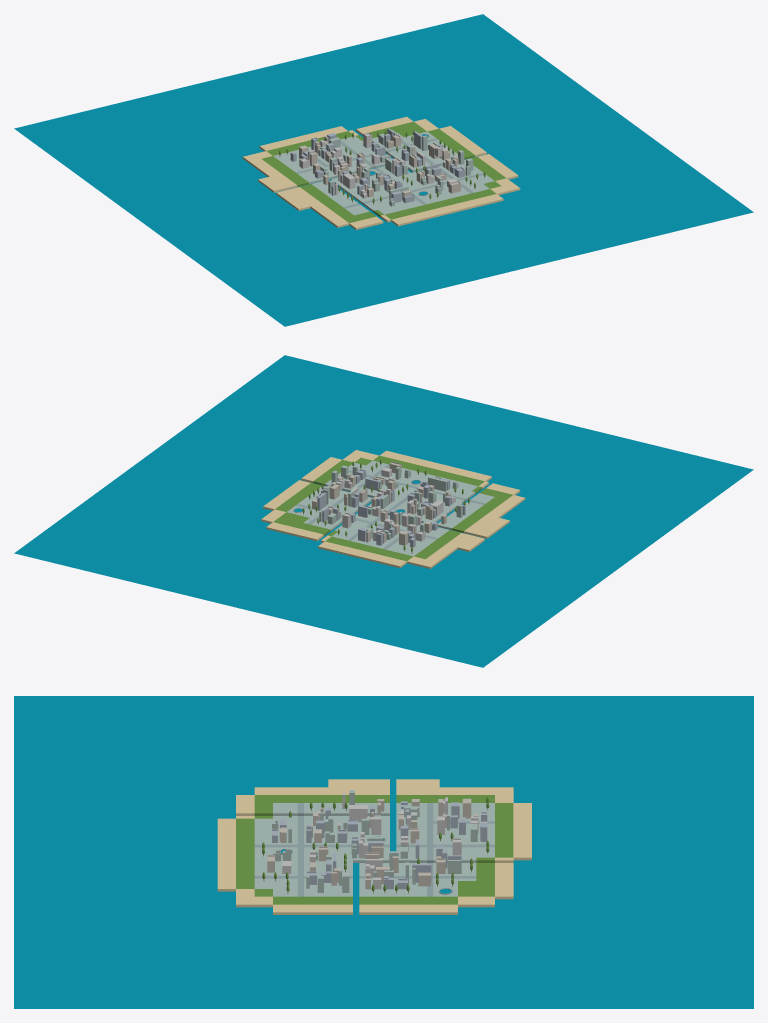
Rendered from diving_city_02.fbx.
3 renders of one model, top to bottom at view 1: azimuth 30°, elevation 25°; view 2: azimuth 150°, elevation 25°; view 3: azimuth 270°, elevation 25°, orthographic. The views are drawn at different scales.
Visible parts, largest first — view 1: obj_sea, obj_sand; view 2: obj_sea, obj_sand; view 3: obj_sea, obj_sand.
Boxes of the visible parts, x1=… form: obj_sea: x1=14, y1=14, x2=753, y2=326; obj_sand: x1=242, y1=116, x2=520, y2=229; obj_sea: x1=14, y1=355, x2=753, y2=667; obj_sand: x1=261, y1=450, x2=525, y2=568; obj_sea: x1=14, y1=696, x2=753, y2=1008; obj_sand: x1=217, y1=779, x2=531, y2=914.
Size of the model in its own units: 7549 by 326 by 7549.
